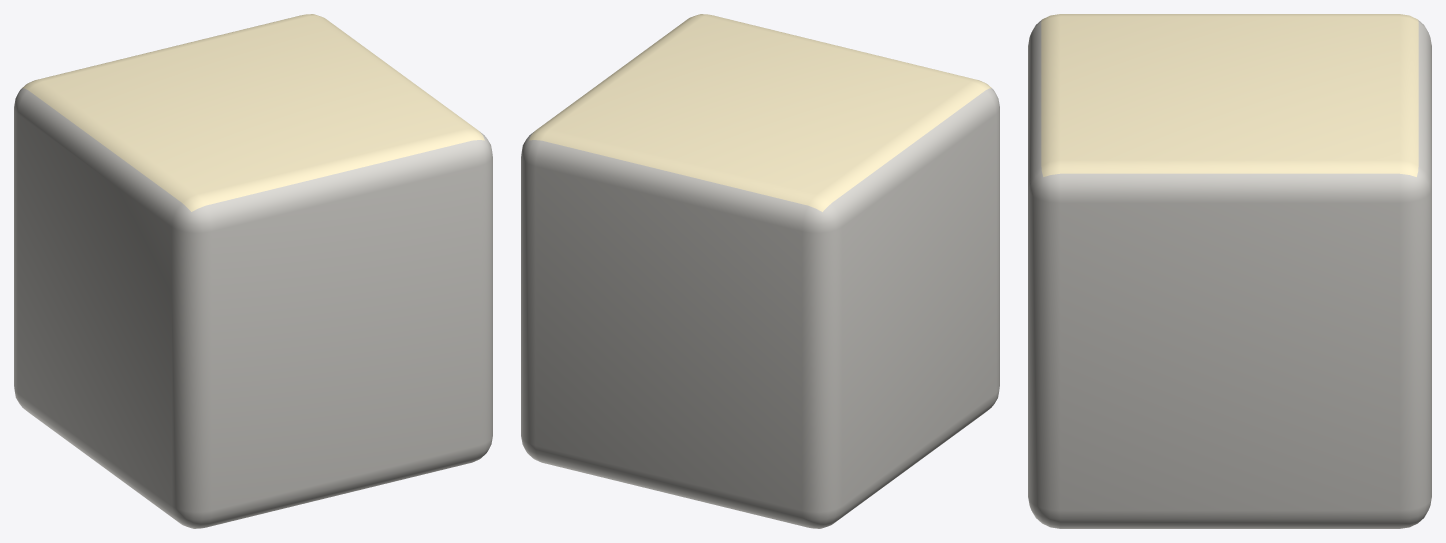
File: SM_Platform_2x2.fbx
The picture shows the model from 3 angles, left to right: view 1: azimuth 30°, elevation 25°; view 2: azimuth 150°, elevation 25°; view 3: azimuth 270°, elevation 25°; orthographic projection. The views are drawn at different scales.
Parts seen in each view (by area): view 1: SM_Platform_2x2; view 2: SM_Platform_2x2; view 3: SM_Platform_2x2.
Part boxes in pixels (x1=…): SM_Platform_2x2: x1=14, y1=14, x2=492, y2=528; SM_Platform_2x2: x1=521, y1=14, x2=999, y2=528; SM_Platform_2x2: x1=1028, y1=14, x2=1431, y2=528.
Bounding box in the file's own units: 2 × 2 × 2.
